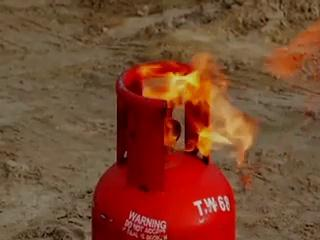Fire: (139, 23, 279, 158)
